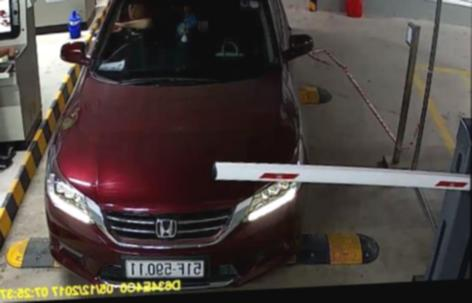License_Plate: (120, 254, 207, 282)
